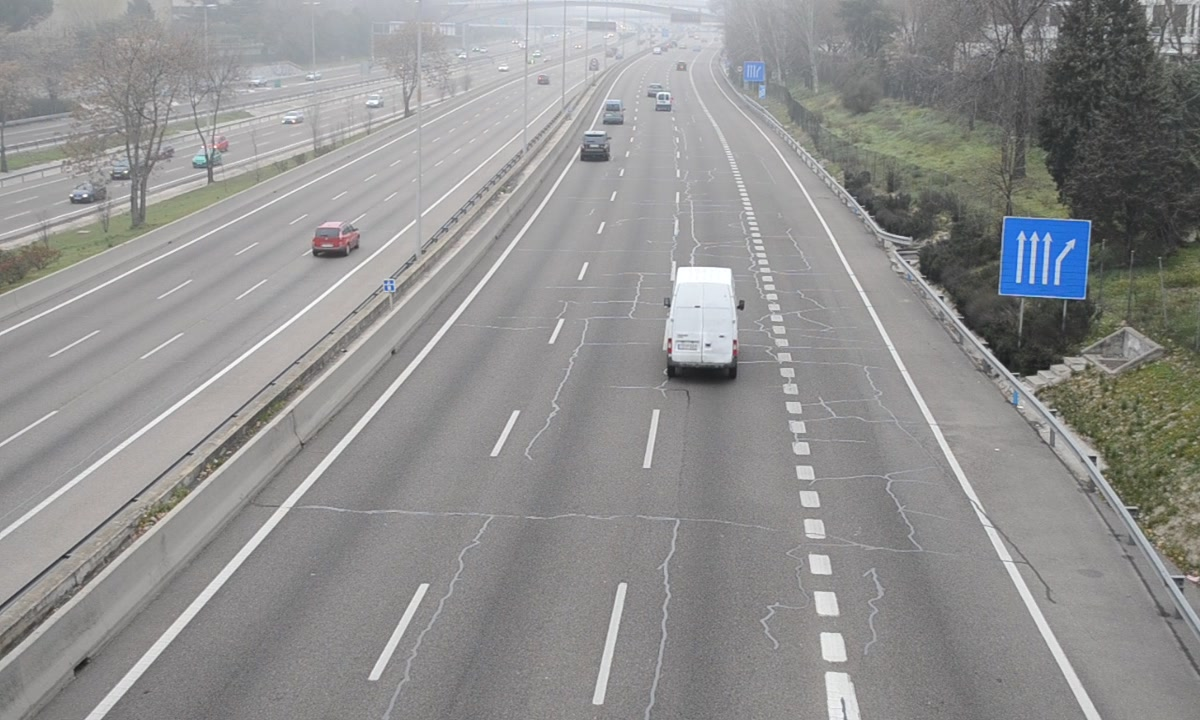car: (581, 130, 610, 162)
van: (665, 266, 740, 376), (601, 98, 623, 124)
